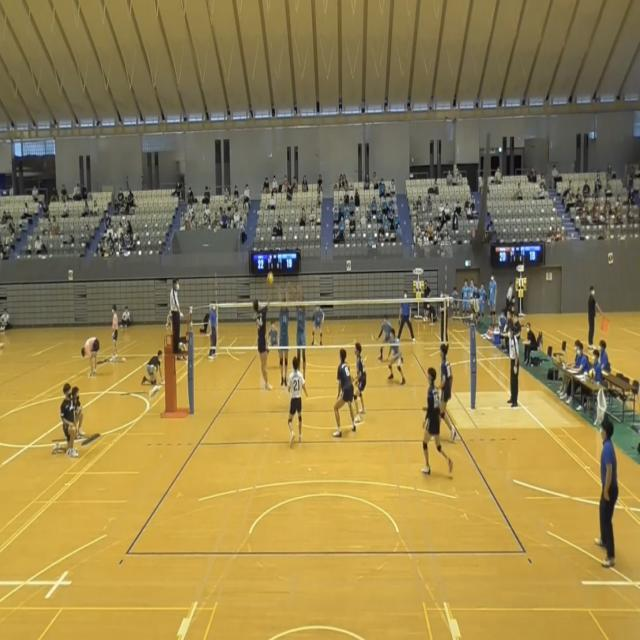spike: (248, 268, 278, 394)
